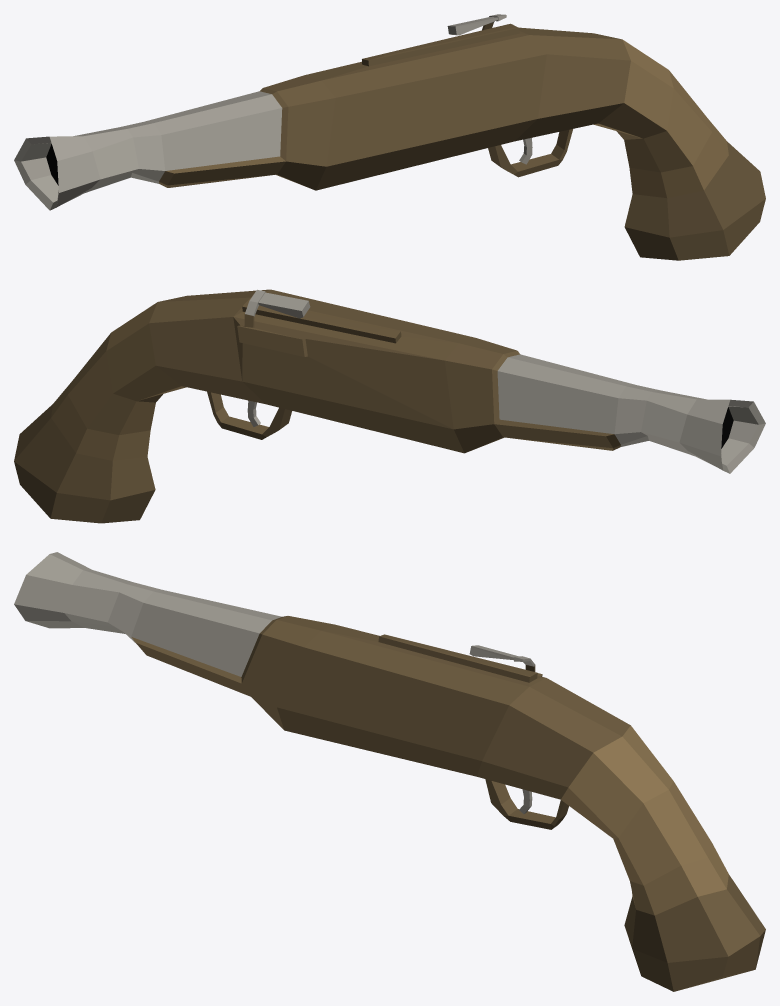
File: pistol.fbx
3 views of the same model, one above another, from view 1: azimuth 30°, elevation 25°; view 2: azimuth 150°, elevation 25°; view 3: azimuth 330°, elevation 25° (orthographic).
Parts seen in each view (by area): view 1: Cube; view 2: Cube; view 3: Cube.
Boxes of the visible parts, bbox=[...] form: Cube: bbox=[14, 14, 765, 260]; Cube: bbox=[14, 289, 765, 523]; Cube: bbox=[14, 552, 765, 991].
Size of the model in its own units: 151 by 53.47 by 20.08.
